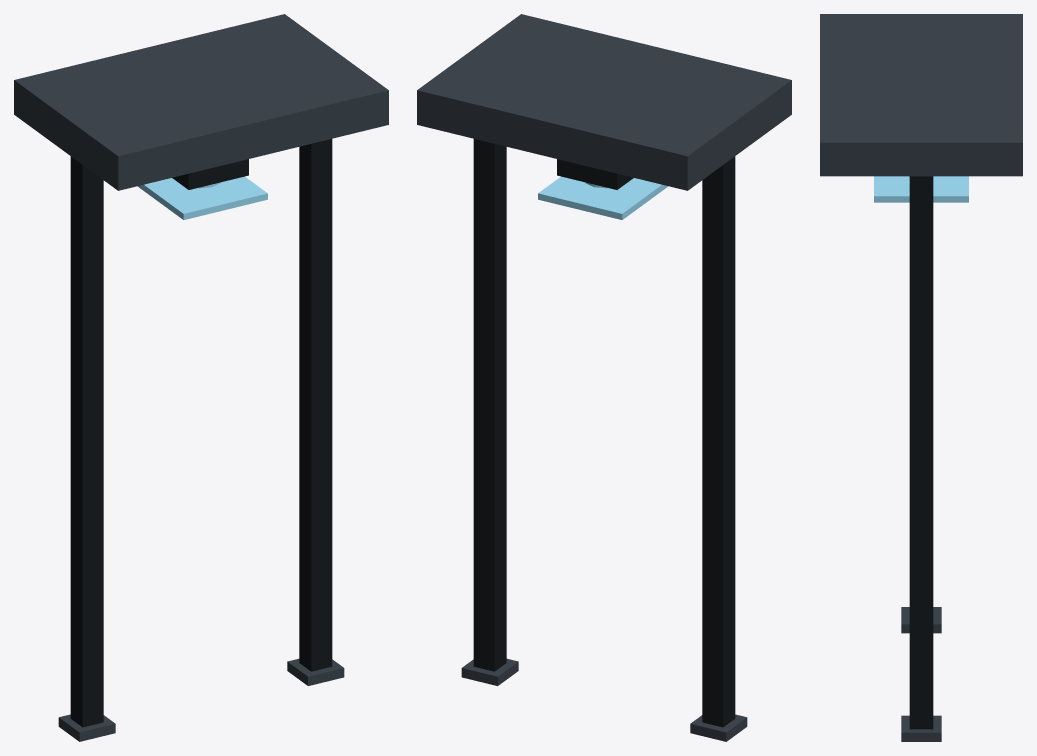
3 renders of one model, left to right at view 1: azimuth 30°, elevation 25°; view 2: azimuth 150°, elevation 25°; view 3: azimuth 270°, elevation 25°, orthographic. The views are drawn at different scales.
Parts seen in each view (by area): view 1: beam, leg:-1, leg:1, inspection-light, camera, foot:-1, foot:1; view 2: beam, leg:-1, leg:1, inspection-light, camera, foot:-1, foot:1; view 3: beam, leg:1, inspection-light, foot:1, foot:-1.
Part boxes in pixels (box(x1,y1,x2,y2)): beam: box(14, 14, 388, 190); leg:-1: box(70, 156, 103, 727); leg:1: box(299, 139, 332, 671); inspection-light: box(137, 176, 267, 219); camera: box(172, 159, 248, 189); foot:-1: box(58, 714, 115, 741); foot:1: box(287, 658, 344, 685); beam: box(417, 14, 791, 190); leg:-1: box(702, 156, 735, 727); leg:1: box(473, 139, 506, 671); inspection-light: box(538, 176, 668, 219); camera: box(557, 159, 633, 189); foot:-1: box(690, 714, 747, 741); foot:1: box(461, 658, 518, 685); beam: box(820, 14, 1022, 176); leg:1: box(909, 176, 933, 729); inspection-light: box(874, 176, 968, 202); foot:1: box(901, 715, 941, 741); foot:-1: box(901, 607, 941, 633).
Bounding box in the file's own units: 0.9 × 1.96 × 0.6.
